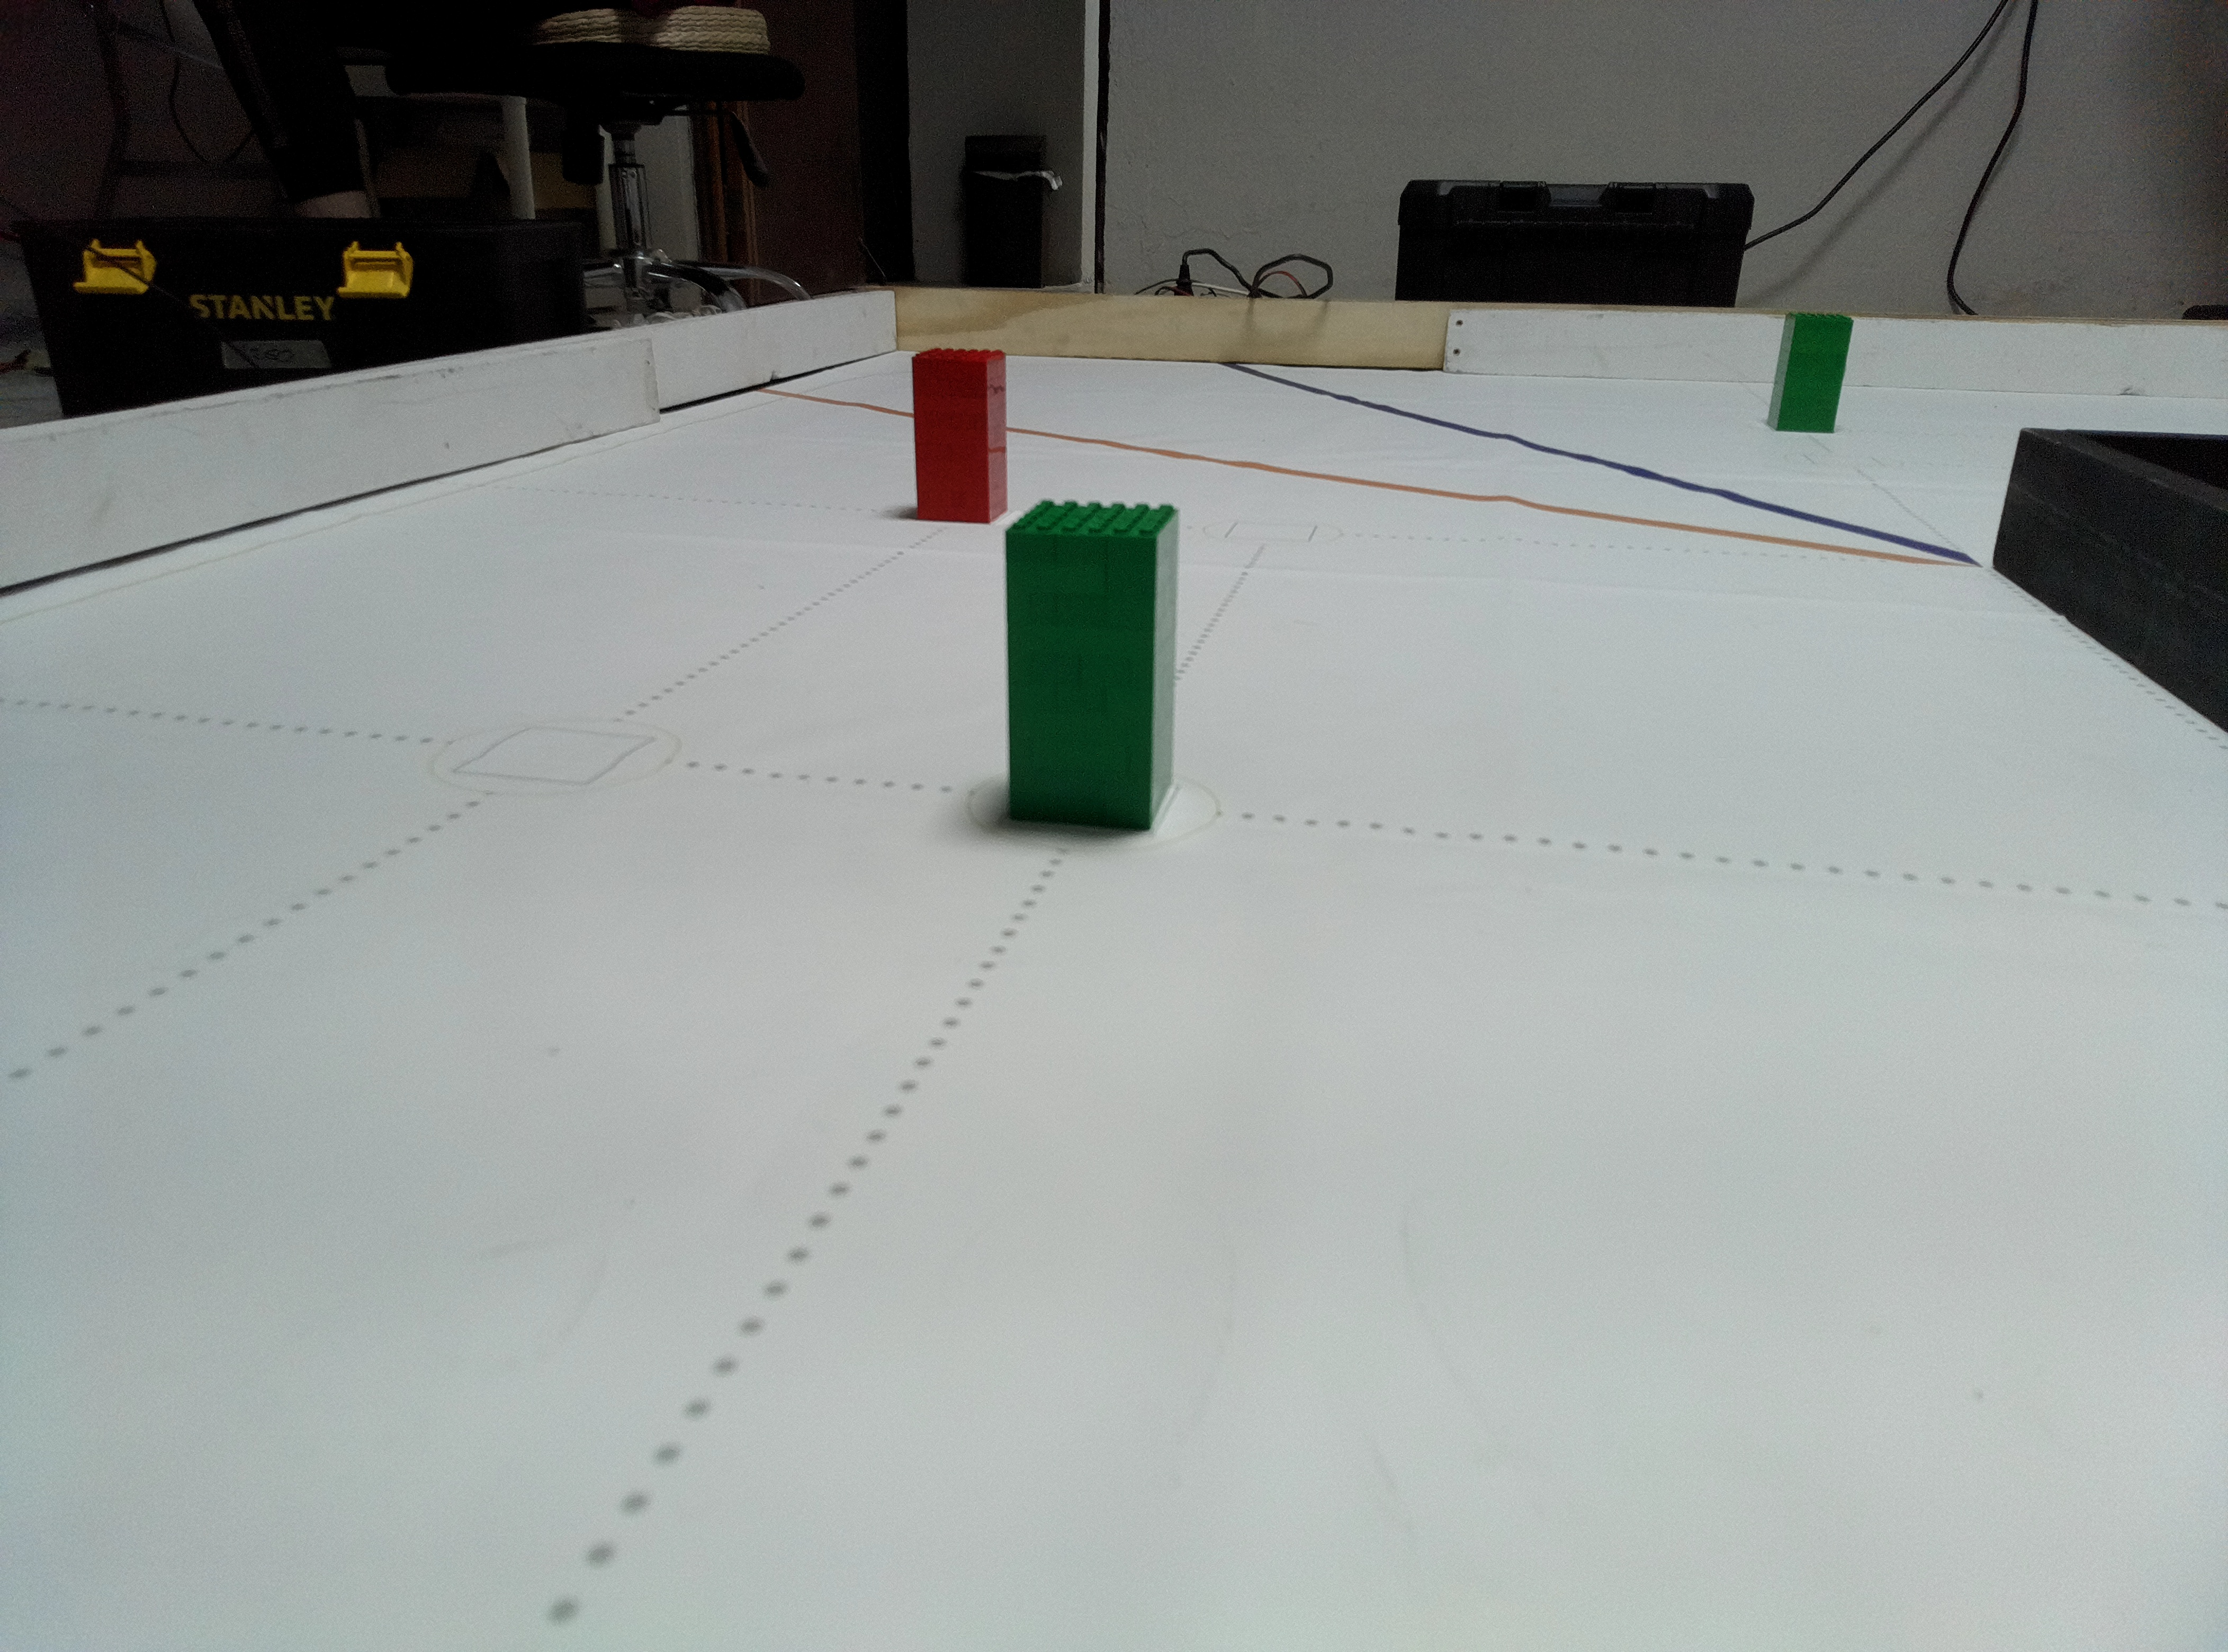greenbox: (999, 496, 1183, 835), (1766, 311, 1855, 436)
redbox: (909, 345, 1010, 526)
